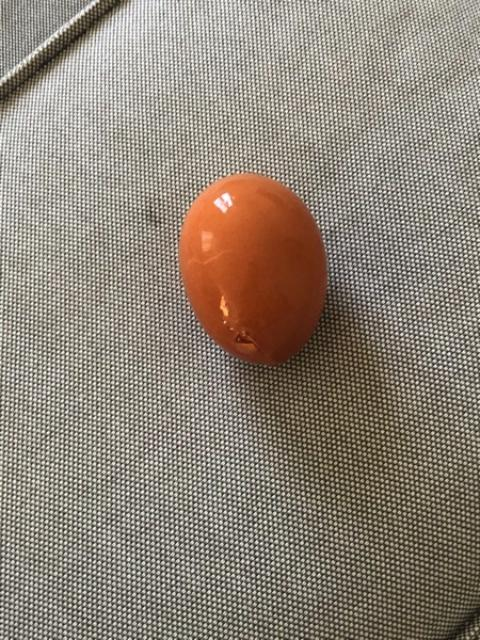Roto: (177, 171, 329, 366)
